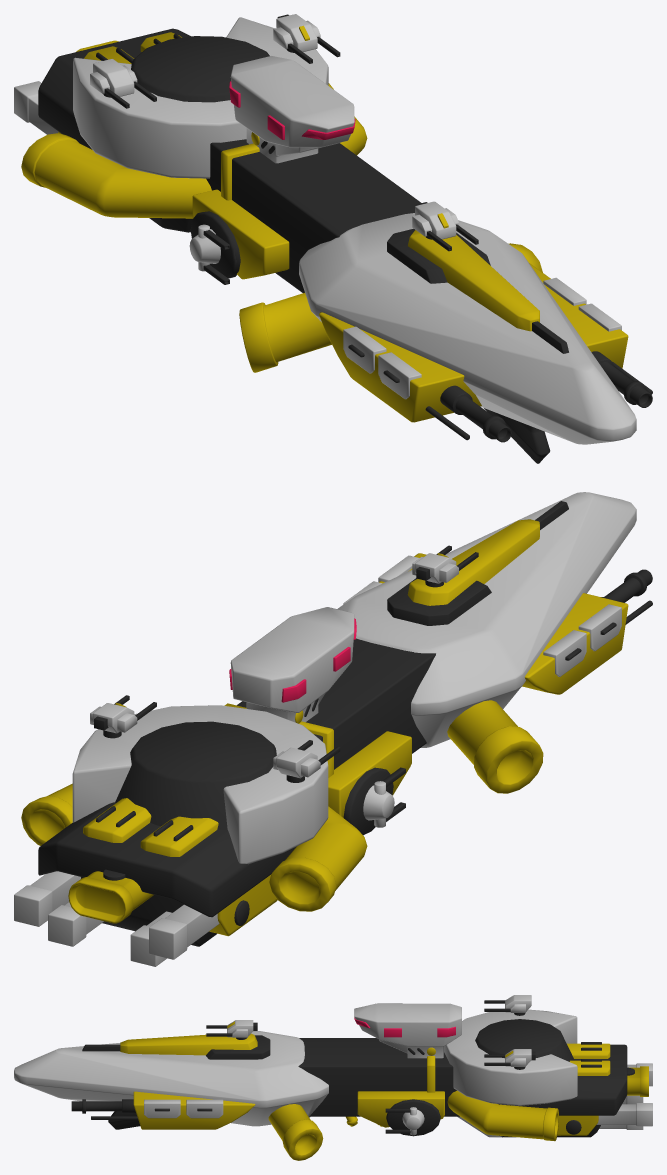
3 views of the same model, one above another, from view 1: azimuth 30°, elevation 25°; view 2: azimuth 150°, elevation 25°; view 3: azimuth 270°, elevation 25° (orthographic). The views are drawn at different scales.
Parts seen in each view (by area): view 1: Destroyer_5.001; view 2: Destroyer_5.001; view 3: Destroyer_5.001.
Part boxes in pixels (x1,y1,x2,y2): Destroyer_5.001: (14,14,652,463); Destroyer_5.001: (14,492,652,966); Destroyer_5.001: (14,995,652,1160).
Bounding box in the file's own units: 22.18 × 13.38 × 65.65.
